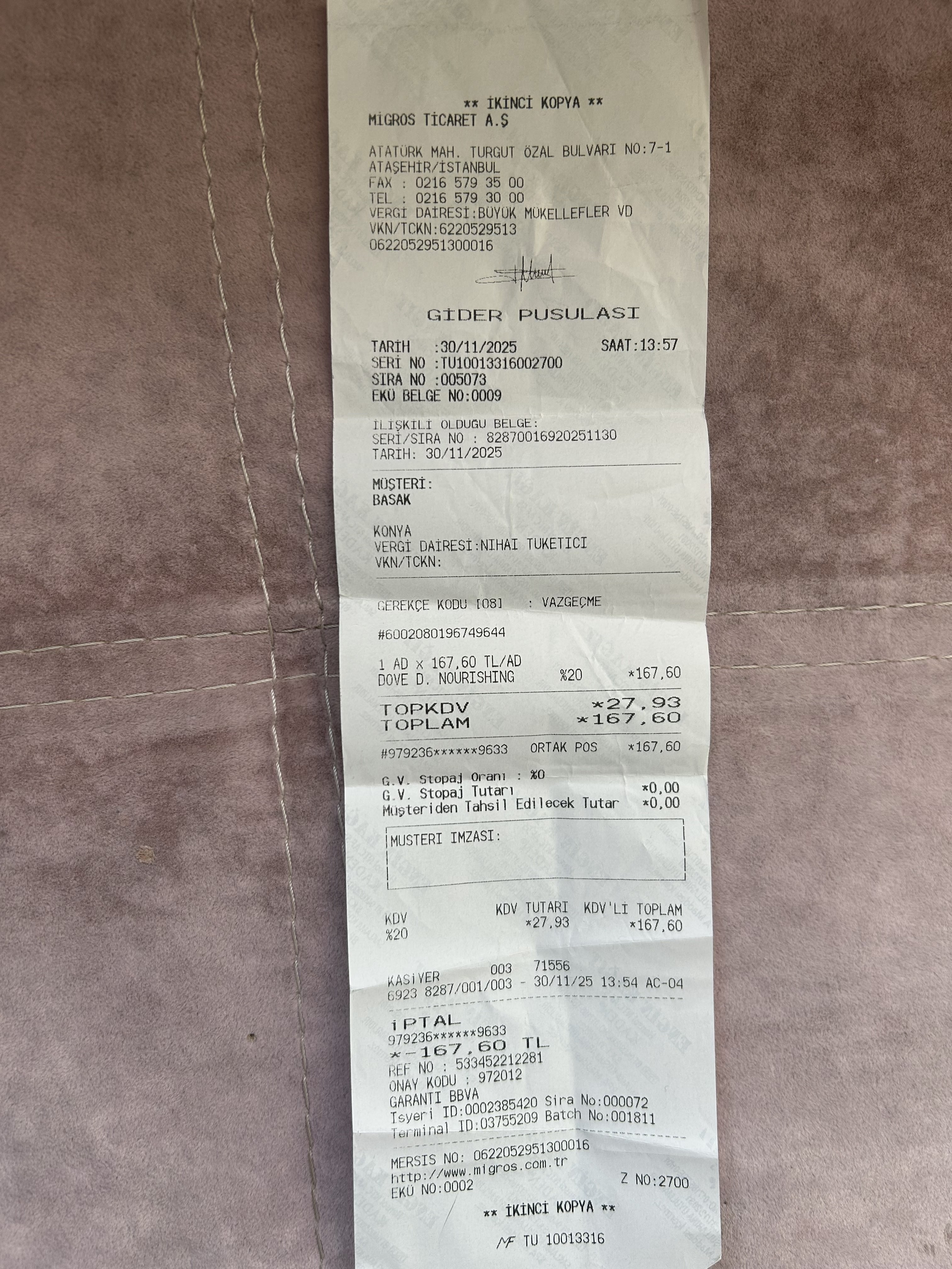date: (438, 337, 520, 355)
price: (587, 711, 687, 730)
workplace: (356, 108, 686, 175)
